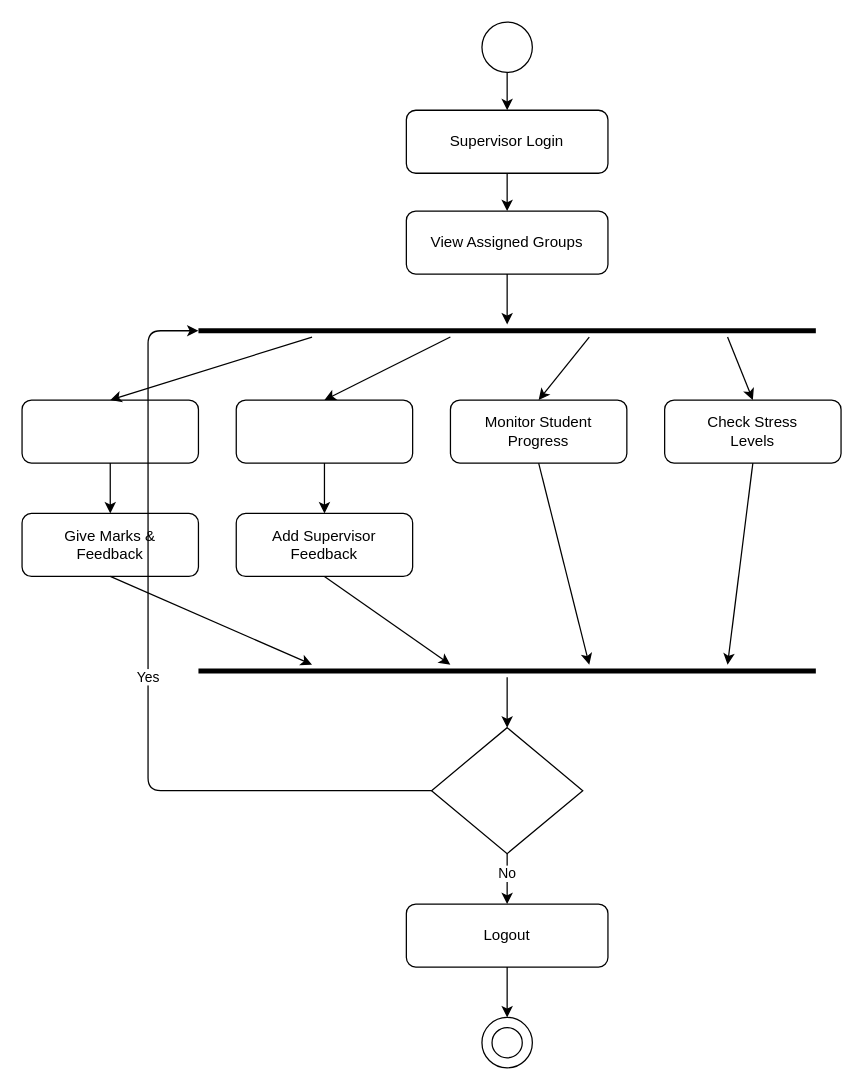
The diagram is 863 pixels wide and 1090 high, and some of its shapes have lost their labels. Here are the shapes that lost their labels. From the top down, the centre of each, then its label:
At (x=109, y=431): "Review Deliverable".
At (x=324, y=431): "Schedule Meeting".
At (x=506, y=790): "More Tasks?".
